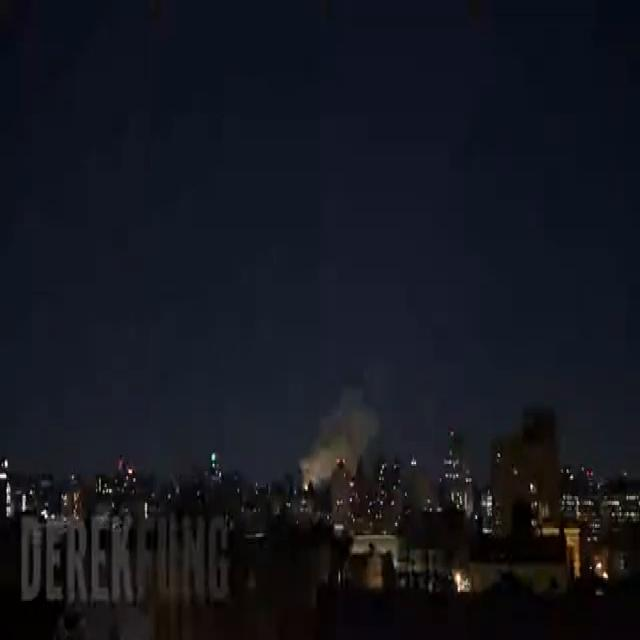smoke: (300, 386, 377, 478)
